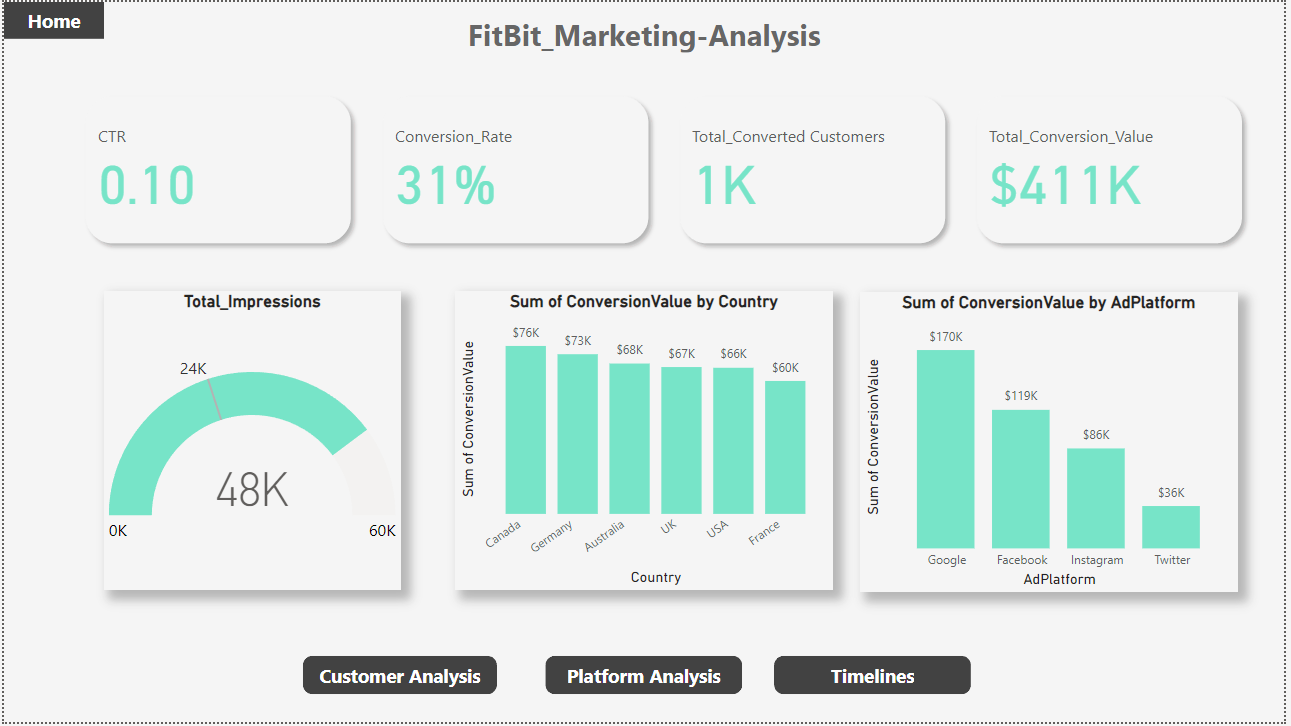

This screenshot's page, from the dashboard's own definition file:
{"tool":"powerbi","page":{"name":"Home","canvas":[1280,720],"ordinal":0},"visuals":[{"type":"shape","box":[437.1,0,405.7,62.9],"z":0},{"type":"gauge","fields":{"Y":["FitBitDataMarketing.Total_Impressions"]},"box":[100.5,289.2,296.7,299.2],"z":1000},{"type":"clusteredColumnChart","fields":{"Category":["FitBitDataMarketing.Country"],"Y":["Sum(FitBitDataMarketing.ConversionValue)"]},"box":[451.8,289.2,377.4,299.2],"z":2000},{"type":"clusteredColumnChart","fields":{"Y":["Sum(FitBitDataMarketing.ConversionValue)"],"Category":["FitBitDataMarketing.AdPlatform"]},"box":[856.5,290.5,377.4,300.4],"z":3000},{"type":"shape","box":[298.6,654.3,194.3,38.6],"z":4000},{"type":"shape","box":[541.4,654.3,197.1,38.6],"z":5000},{"type":"shape","box":[770,654.3,197.1,38.6],"z":6000},{"type":"shape","box":[0,0,100,37.1],"z":7000},{"type":"cardVisual","fields":{"Data":["FitBitDataMarketing.CTR","FitBitDataMarketing.Conversion_Rate","FitBitDataMarketing.Total_Converted Customers","FitBitDataMarketing.Total_Conversion_Value"]},"box":[64.5,77,1191.6,181.2],"z":8000}]}

Visuals, with their boxes in screenshot pixels (x1, y1, x2, y2), scaled from the page's 1280x720 canvas onto the 1291x726 screenshot:
shape: box(441, 0, 850, 63)
gauge - FitBitDataMarketing.Total_Impressions: box(101, 292, 401, 593)
clusteredColumnChart - FitBitDataMarketing.Country x Sum(FitBitDataMarketing.ConversionValue): box(456, 292, 836, 593)
clusteredColumnChart - Sum(FitBitDataMarketing.ConversionValue) x FitBitDataMarketing.AdPlatform: box(864, 293, 1245, 596)
shape: box(301, 660, 497, 699)
shape: box(546, 660, 745, 699)
shape: box(777, 660, 975, 699)
shape: box(0, 0, 101, 37)
cardVisual - FitBitDataMarketing.CTR x FitBitDataMarketing.Conversion_Rate: box(65, 78, 1267, 260)
